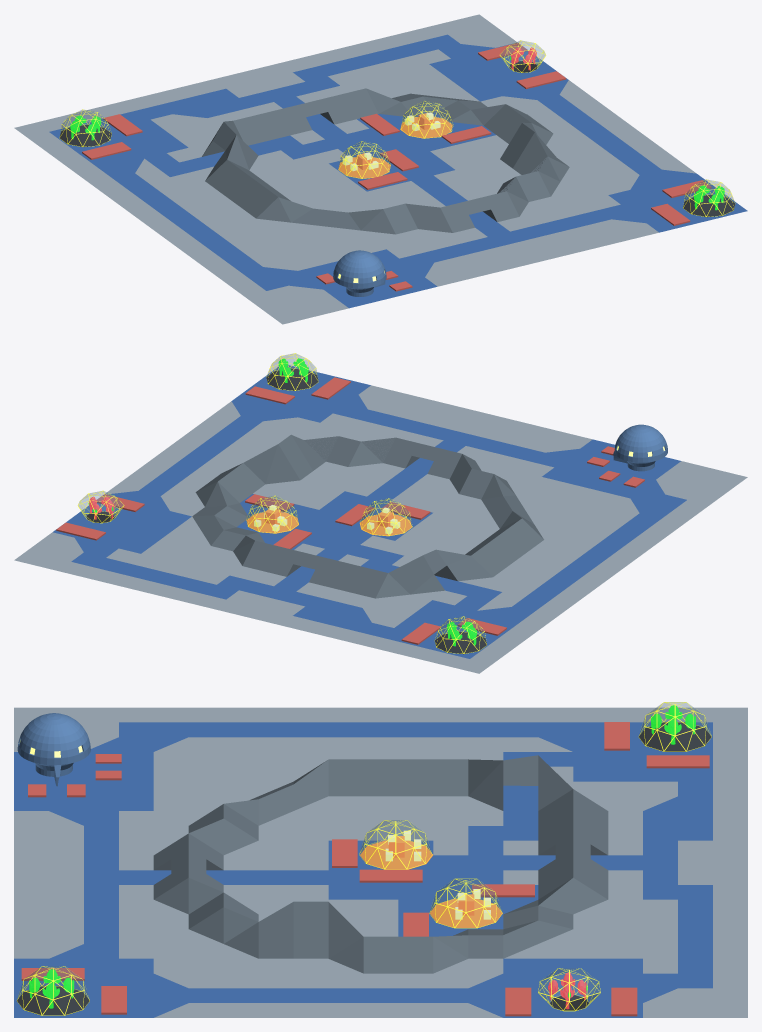
Rendered from ShinyPath_04.gltf.
The picture shows the model from 3 angles, top to bottom: view 1: azimuth 30°, elevation 25°; view 2: azimuth 150°, elevation 25°; view 3: azimuth 270°, elevation 25°; orthographic projection. The views are drawn at different scales.
Parts seen in each view (by area): view 1: ShinyBlue.002, ShinyBlue, RingWall, VehicleBay, IceMine2, GreenPlants1, GreenPlant2, IceMine1, ChargingStation; view 2: ShinyBlue.002, ShinyBlue, RingWall, VehicleBay, IceMine1, IceMine2, GreenPlants1, GreenPlant2, ChargingStation; view 3: ShinyBlue.002, ShinyBlue, RingWall, VehicleBay, IceMine1, IceMine2, GreenPlant2, GreenPlants1, ChargingStation, Cube.005, Cube.007, Cube (+7 smaller).
Part boxes in pixels (x1,y1,x2,y2): ShinyBlue.002: (14,14,696,324); ShinyBlue: (49,34,747,308); RingWall: (202,88,569,234); VehicleBay: (333,250,386,296); IceMine2: (400,101,453,138); GreenPlants1: (683,179,735,217); GreenPlant2: (59,109,111,147); IceMine1: (338,141,390,178); ChargingStation: (499,40,546,72); ShinyBlue.002: (14,385,747,673); ShinyBlue: (53,365,686,658); RingWall: (192,434,543,598); VehicleBay: (613,424,667,471); IceMine1: (359,498,412,536); IceMine2: (246,495,298,533); GreenPlants1: (266,353,318,390); GreenPlant2: (434,616,486,654); ChargingStation: (77,490,124,523); ShinyBlue.002: (14,707,747,1017); ShinyBlue: (14,722,712,1017); RingWall: (153,755,608,973); VehicleBay: (17,713,90,786); IceMine1: (359,820,432,869); IceMine2: (429,878,502,928); GreenPlant2: (638,702,711,751); GreenPlants1: (17,966,89,1015); ChargingStation: (538,968,600,1011); Cube.005: (646,755,709,768); Cube.007: (359,869,422,882); Cube: (611,987,637,1016).
Bounding box in the file's own units: 20 × 1.58 × 20.
